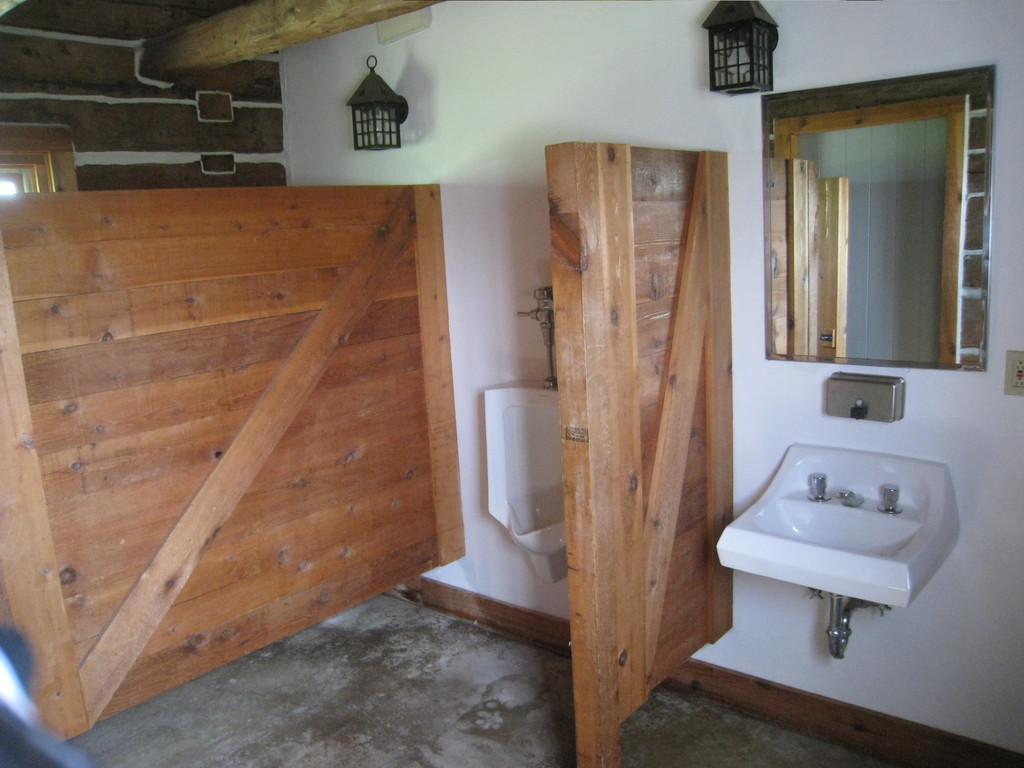tap: (833, 485, 865, 506)
